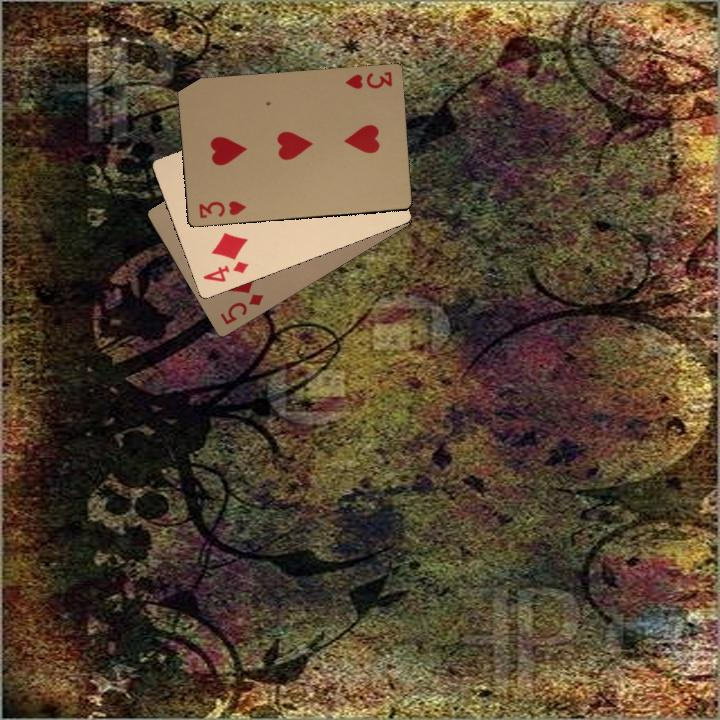3h: (195, 196, 248, 221), (341, 67, 394, 92)
4d: (199, 257, 251, 285)
5d: (216, 289, 266, 327)
